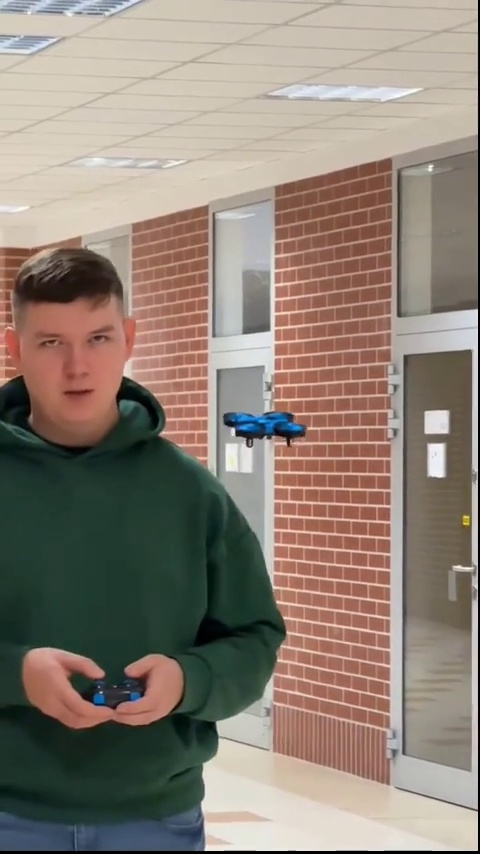drone: (226, 406, 300, 452)
no vest: (0, 244, 286, 827)
